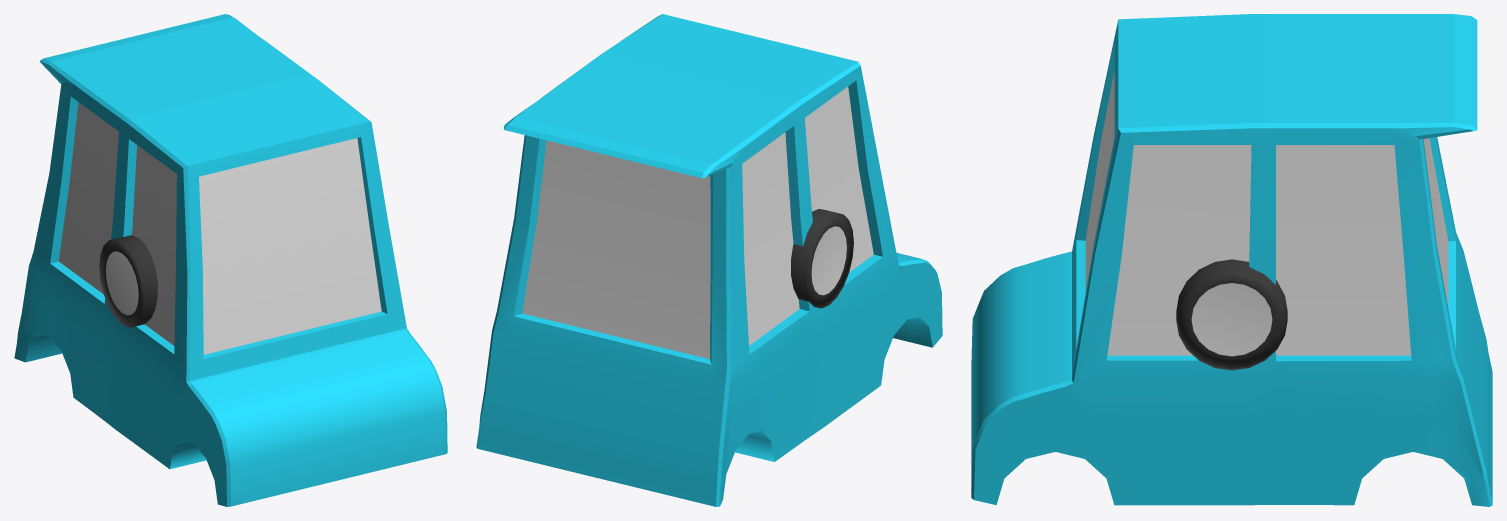
Rendered from car 6.fbx.
3 renders of one model, left to right at view 1: azimuth 30°, elevation 25°; view 2: azimuth 150°, elevation 25°; view 3: azimuth 270°, elevation 25°, orthographic. The views are drawn at different scales.
Parts seen in each view (by area): view 1: car_6_chasis, car_6_right_wheel; view 2: car_6_chasis, car_6_right_wheel; view 3: car_6_chasis, car_6_left_wheel, car_6_back_wheel.
Part boxes in pixels (x1,y1,x2,y2): car_6_chasis: [14, 14, 447, 506]; car_6_right_wheel: [100, 235, 157, 326]; car_6_chasis: [476, 14, 942, 506]; car_6_right_wheel: [791, 209, 853, 307]; car_6_chasis: [971, 14, 1492, 506]; car_6_left_wheel: [1176, 259, 1287, 368]; car_6_back_wheel: [1176, 269, 1287, 370].
Bounding box in the file's own units: 98.97 × 126 × 161.
